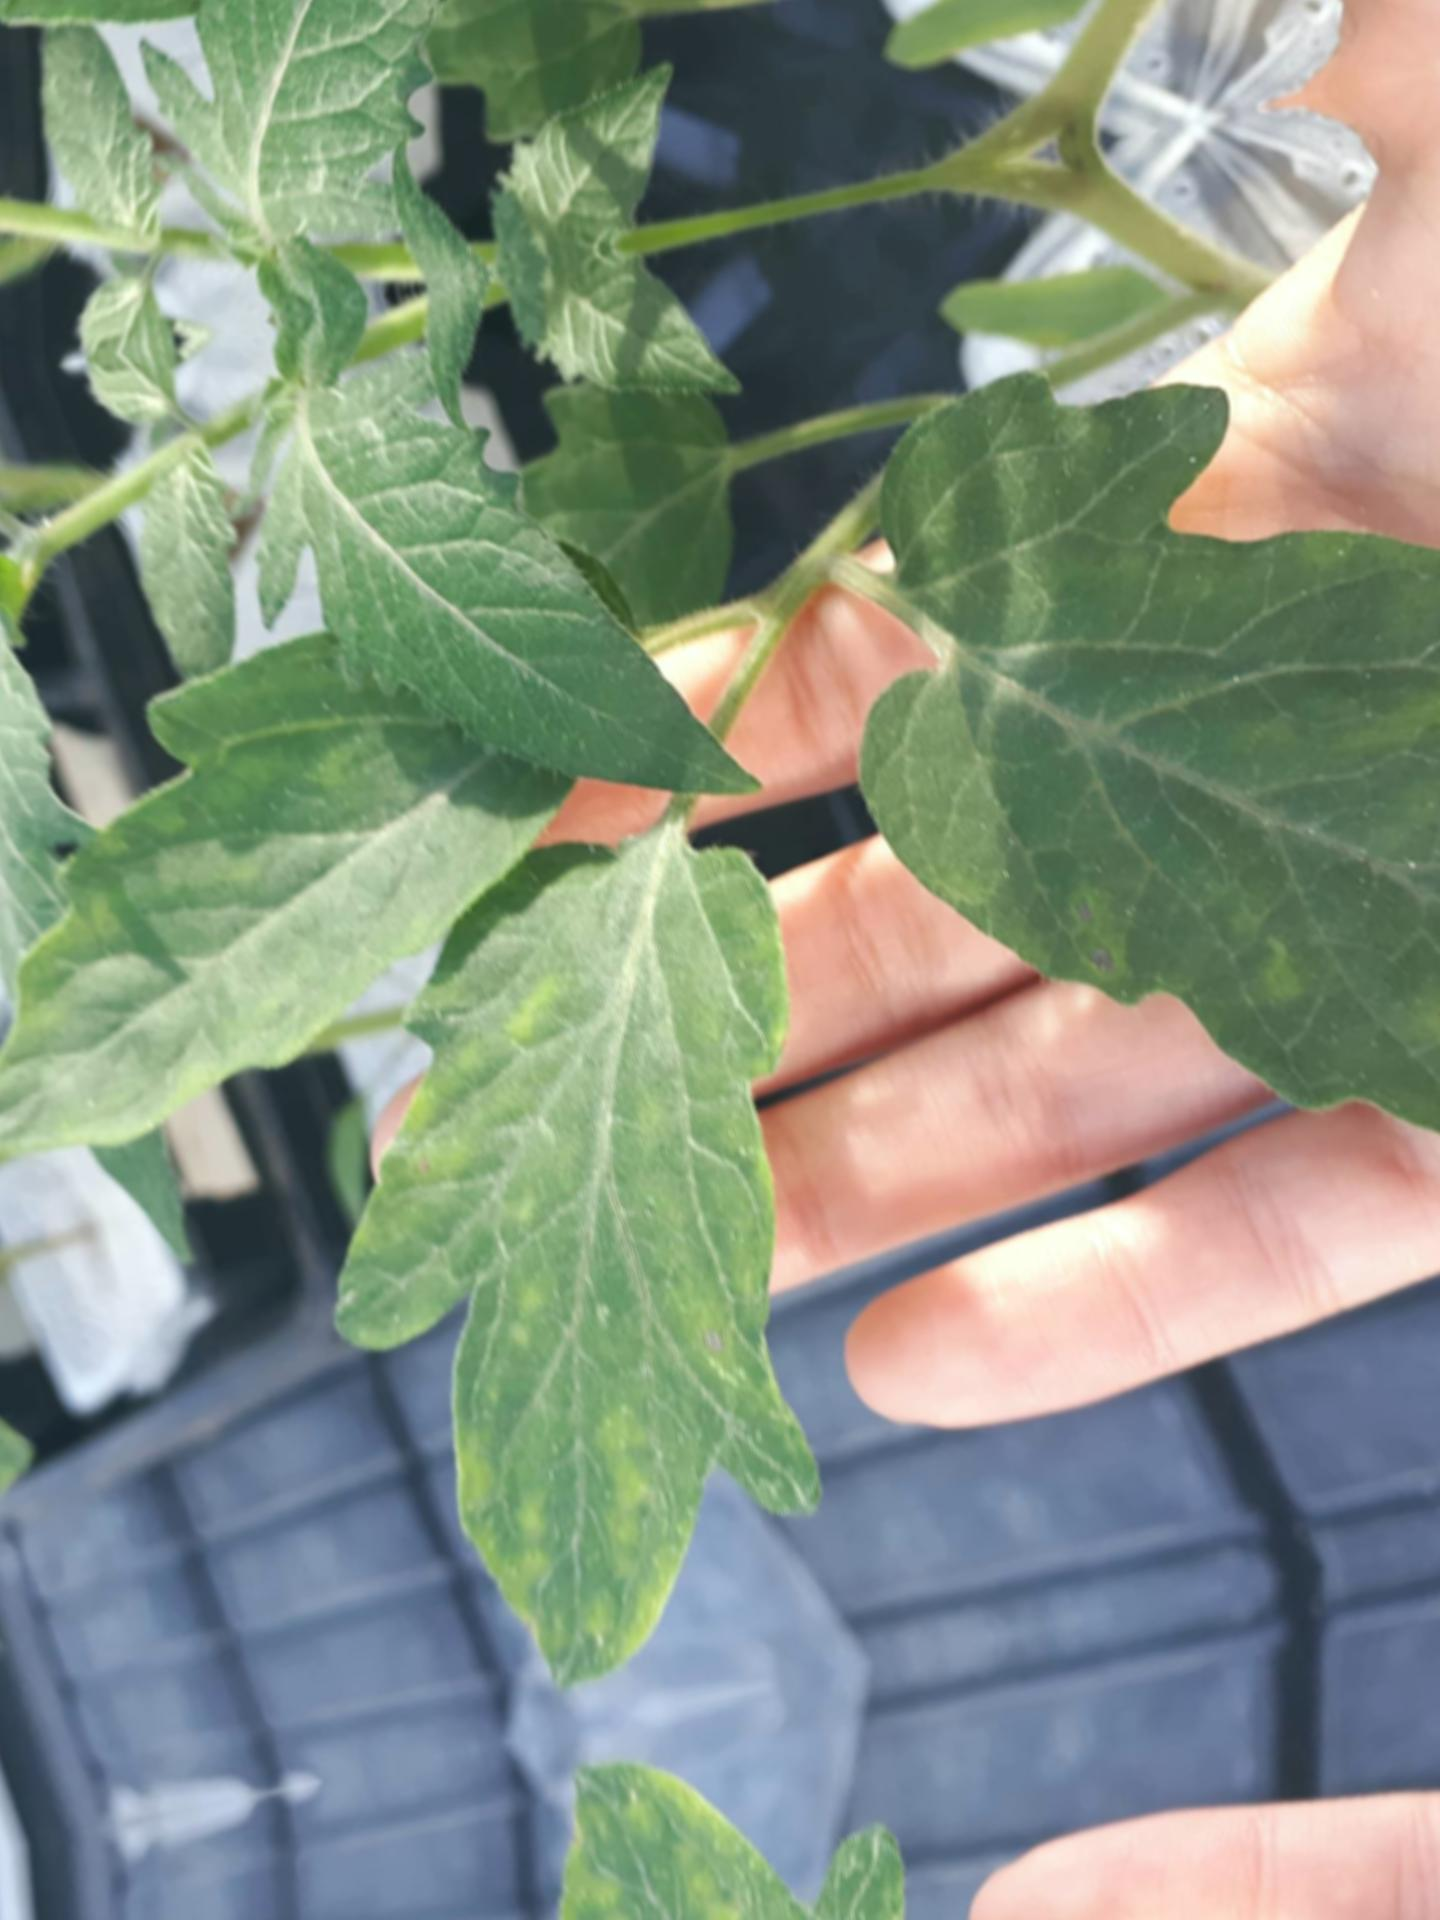Tomato mold leaf: (758, 252, 1440, 1333), (216, 786, 909, 1763), (213, 286, 803, 893)
